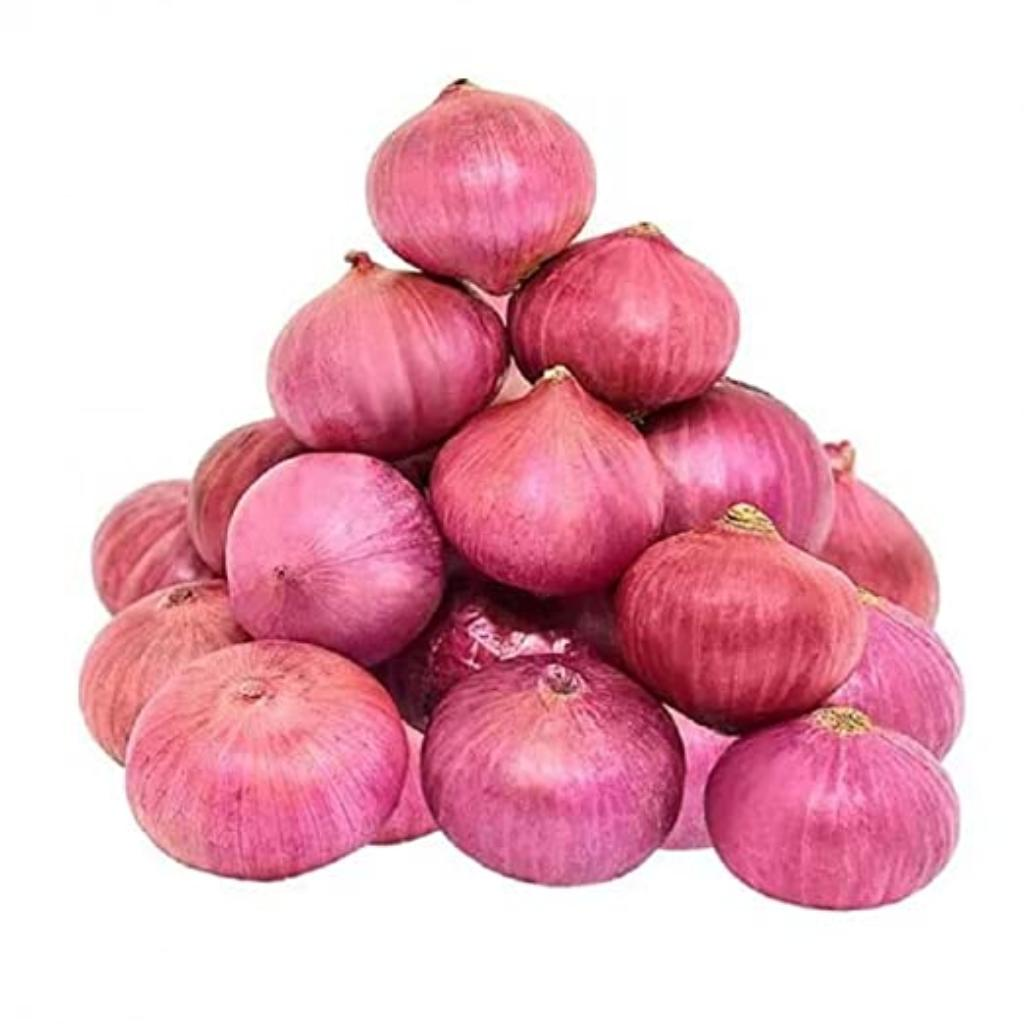Onion: (126, 640, 410, 881), (420, 647, 687, 889), (612, 502, 869, 738), (426, 365, 663, 600), (704, 708, 959, 912), (265, 255, 510, 465), (365, 78, 594, 296), (226, 453, 447, 667), (508, 224, 740, 418), (638, 379, 836, 553), (80, 579, 249, 767)
